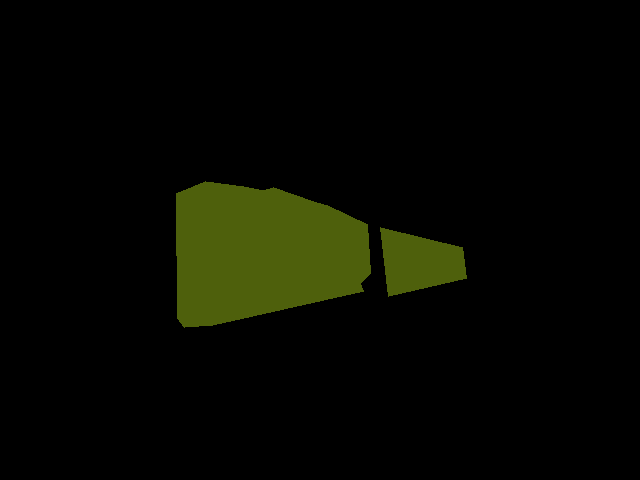Train: (176, 181, 467, 327)
